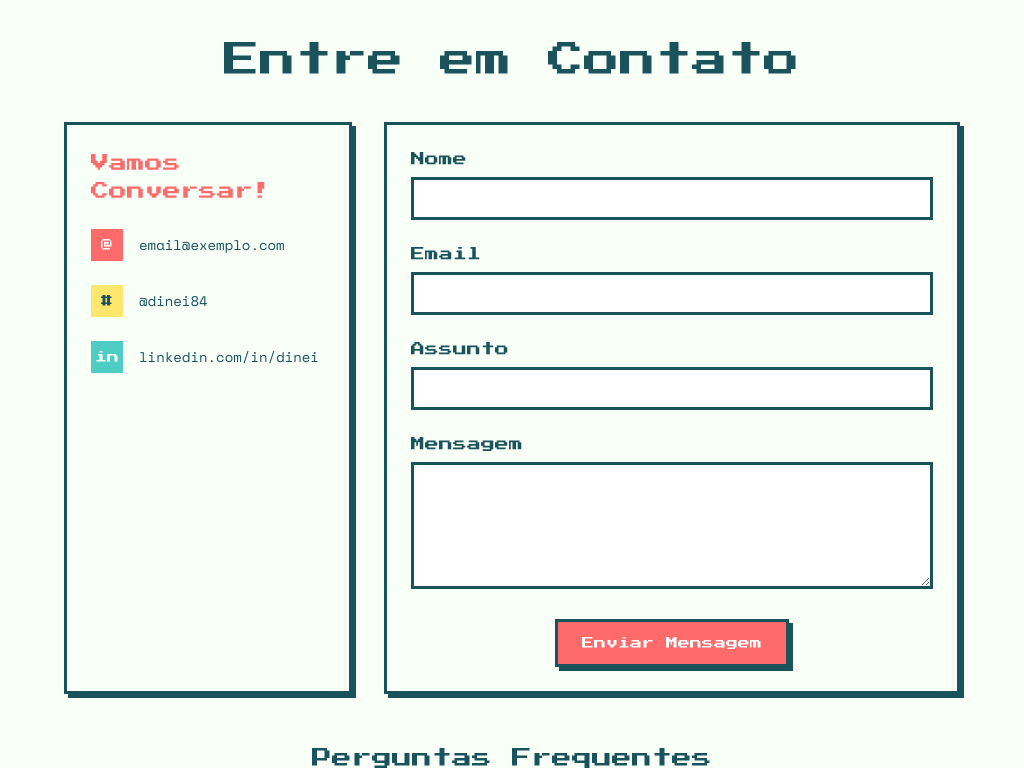
it: Contact › should show error when submitting empty required fields
Click the button "Enviar Mensagem" at (672, 643), box [555,619,789,667]
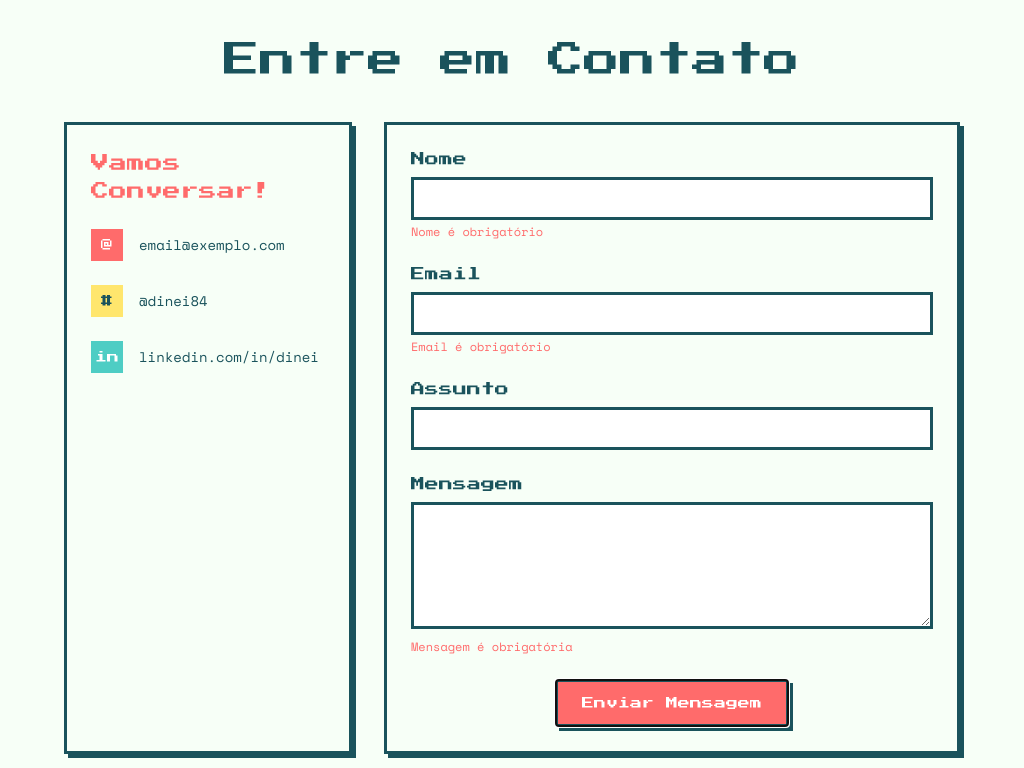
expect the text "Nome é obrigatório" is shown: met, box [411,223,543,240]
